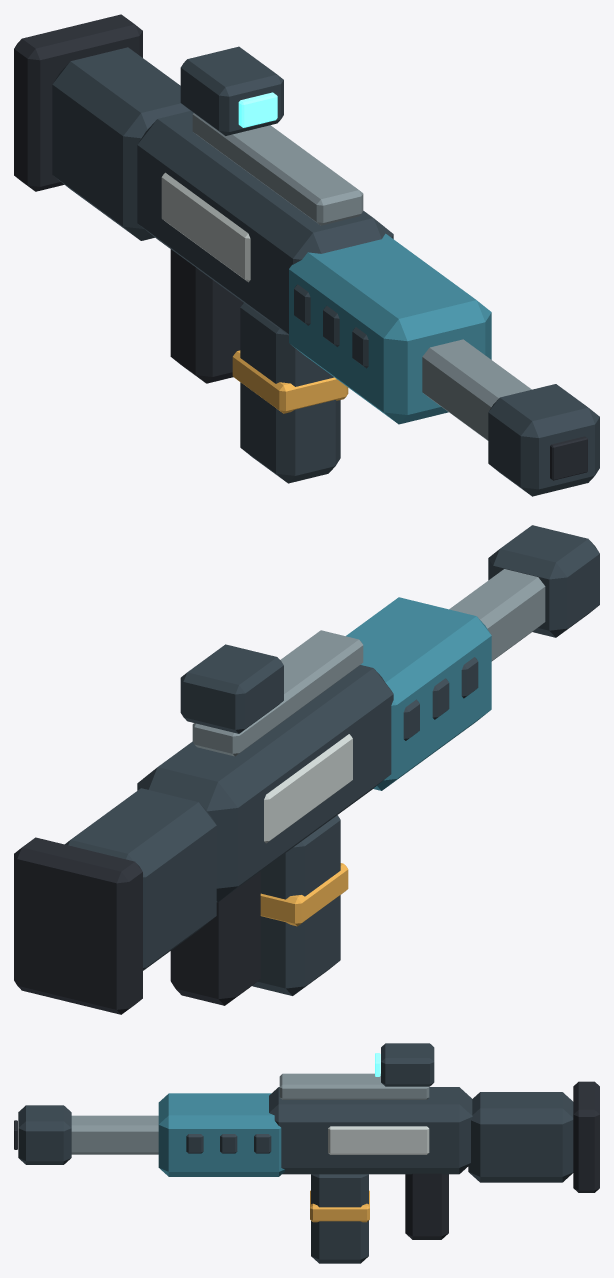
File: lancer_rifle.glb
3 renders of one model, top to bottom at view 1: azimuth 30°, elevation 25°; view 2: azimuth 150°, elevation 25°; view 3: azimuth 270°, elevation 25°, orthographic. The views are drawn at different scales.
Visible parts, largest first — view 1: Handguard, Receiver, Stock, Magazine, ButtPad, MuzzleBrake, Rail, Grip, SightBase, Barrel, SidePanel, MagazineStripe (+2 smaller); view 2: Receiver, ButtPad, Handguard, Stock, Magazine, Grip, MuzzleBrake, SightBase, Rail, Barrel, SidePanel, MagazineStripe; view 3: Receiver, Stock, Handguard, Magazine, Barrel, Rail, MuzzleBrake, ButtPad, SidePanel, Grip, SightBase, Vent (×3) (+1 smaller).
Part boxes in pixels (left/top/right/bottom): Handguard: left=289, top=233, right=491, bottom=424; Receiver: left=137, top=111, right=393, bottom=335; Stock: left=52, top=47, right=190, bottom=240; Magazine: left=240, top=302, right=340, bottom=483; ButtPad: left=14, top=14, right=142, bottom=191; MuzzleBrake: left=488, top=384, right=599, bottom=496; Rail: left=192, top=113, right=363, bottom=225; Grip: left=170, top=249, right=242, bottom=383; SightBase: left=180, top=46, right=283, bottom=135; Barrel: left=422, top=339, right=531, bottom=440; SidePanel: left=161, top=172, right=250, bottom=282; MagazineStripe: left=232, top=350, right=348, bottom=413; Receiver: left=137, top=665, right=393, bottom=902; ButtPad: left=14, top=837, right=142, bottom=1014; Handguard: left=346, top=597, right=491, bottom=790; Stock: left=65, top=788, right=216, bottom=970; Magazine: left=252, top=815, right=340, bottom=995; Grip: left=170, top=871, right=260, bottom=1005; MuzzleBrake: left=488, top=525, right=599, bottom=637; SightBase: left=180, top=644, right=283, bottom=733; Rail: left=192, top=630, right=363, bottom=756; Barrel: left=449, top=569, right=545, bottom=661; SidePanel: left=264, top=734, right=352, bottom=843; MagazineStripe: left=260, top=863, right=348, bottom=926; Receiver: left=269, top=1087, right=472, bottom=1174; Stock: left=468, top=1092, right=573, bottom=1182; Handguard: left=158, top=1093, right=284, bottom=1176; Magazine: left=311, top=1174, right=368, bottom=1263; Barrel: left=71, top=1115, right=158, bottom=1154; Rail: left=279, top=1073, right=429, bottom=1099; MuzzleBrake: left=18, top=1105, right=71, bottom=1164; ButtPad: left=573, top=1081, right=599, bottom=1192; SidePanel: left=328, top=1126, right=429, bottom=1154; Grip: left=405, top=1173, right=448, bottom=1239; SightBase: left=381, top=1043, right=434, bottom=1086; Vent (×3): left=186, top=1134, right=271, bottom=1153.
Size of the model in its own units: 0.16 by 0.4725 by 1.21.
